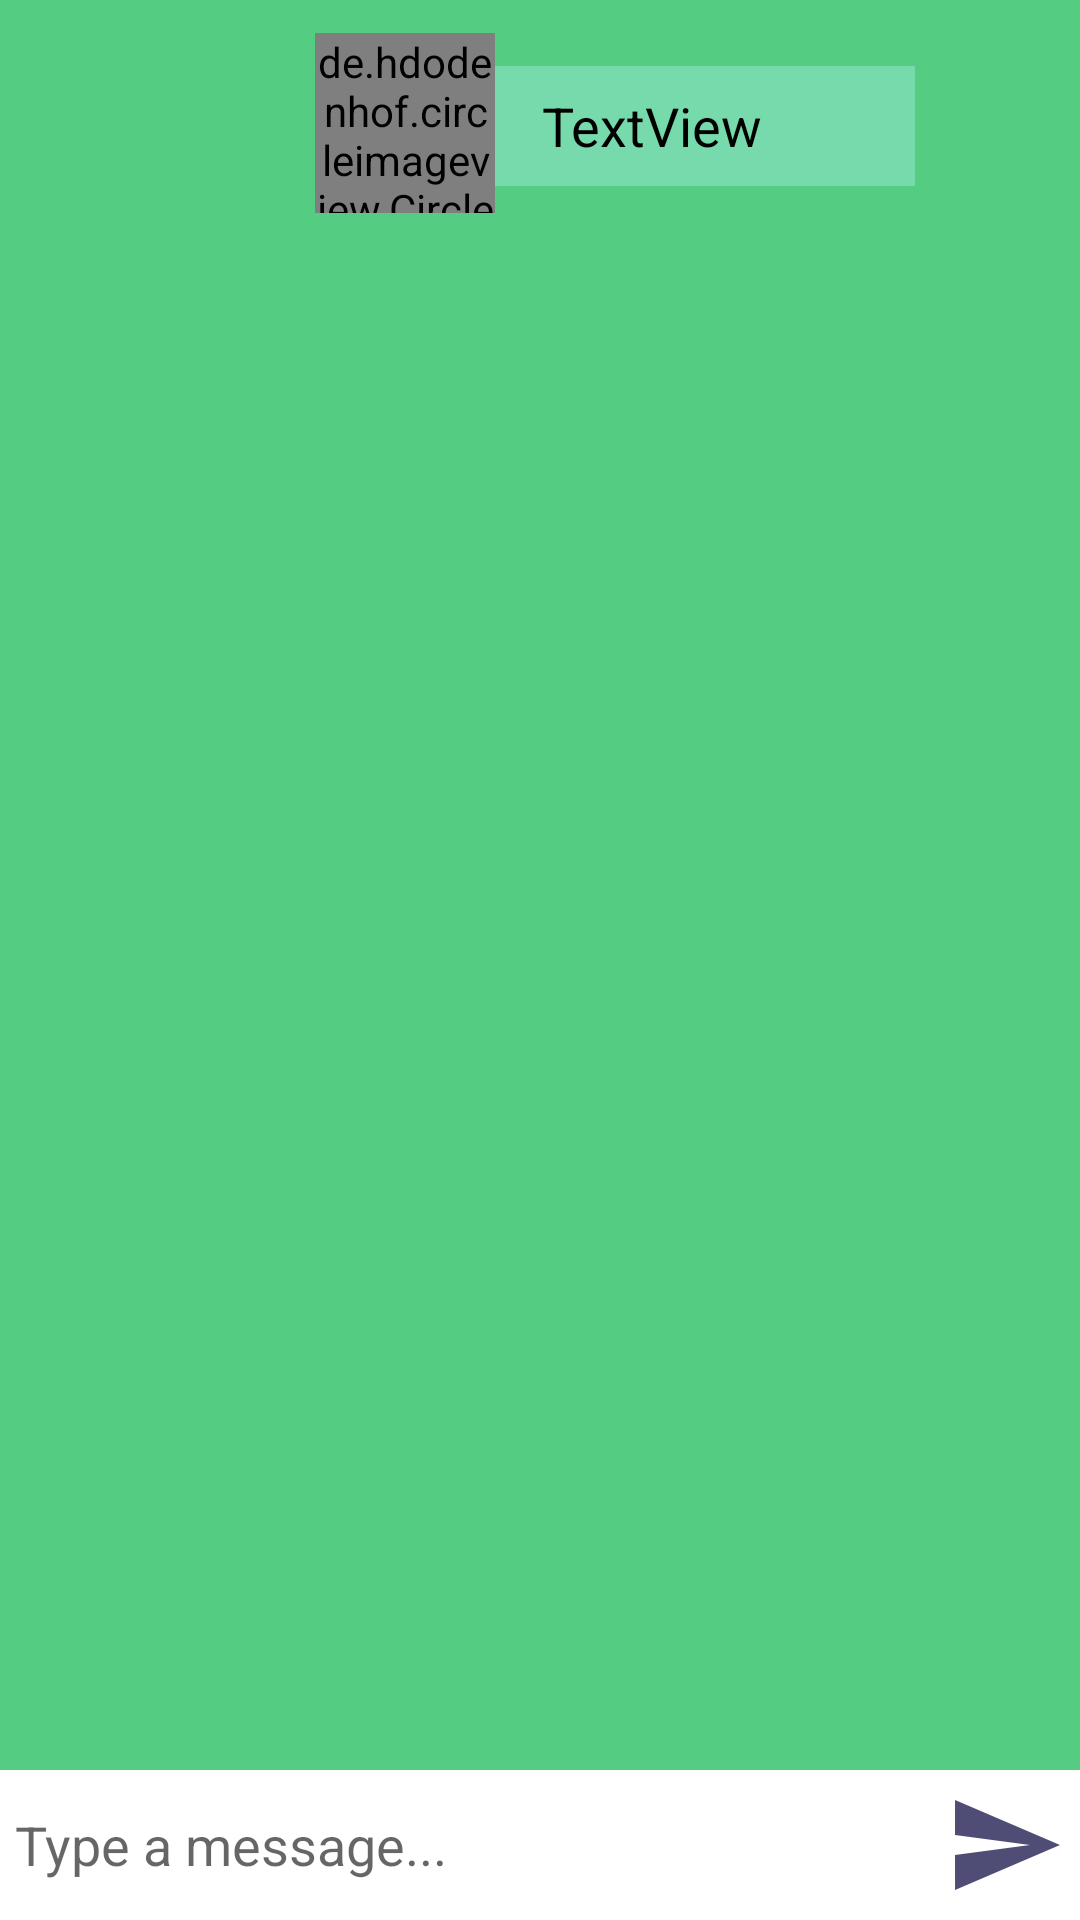

Icons on this 1080px x 1920px Android screen, each with its box as (x1, y1, x2, y2):
message send: (955, 1800, 1060, 1890)
